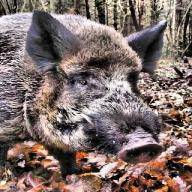boar: (0, 8, 168, 180)
